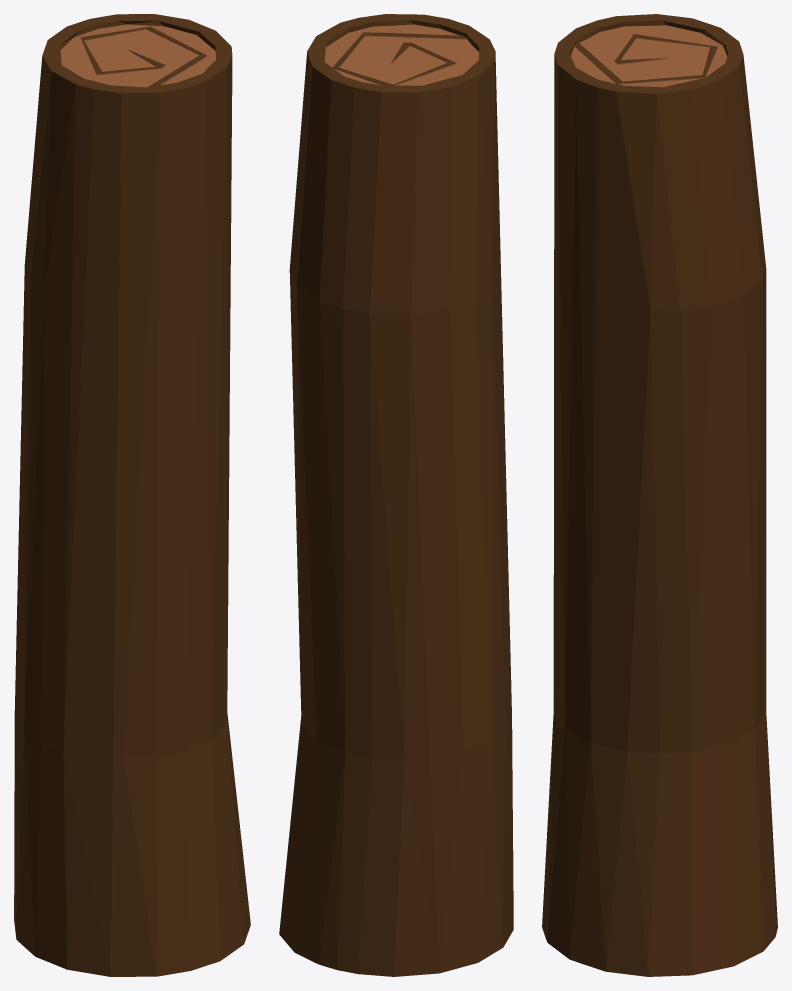
File: Log.fbx
3 renders of one model, left to right at view 1: azimuth 30°, elevation 25°; view 2: azimuth 150°, elevation 25°; view 3: azimuth 270°, elevation 25°, orthographic.
Visible parts, largest first — view 1: Log; view 2: Log; view 3: Log.
Part boxes in pixels (<box>): Log: <box>14,14,250,976</box>; Log: <box>279,14,513,976</box>; Log: <box>542,14,777,976</box>.
Size of the model in its own units: 60.84 by 249 by 60.96.
